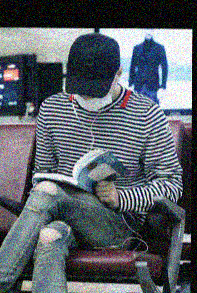mask_weared_incorrect: (73, 82, 114, 113)
